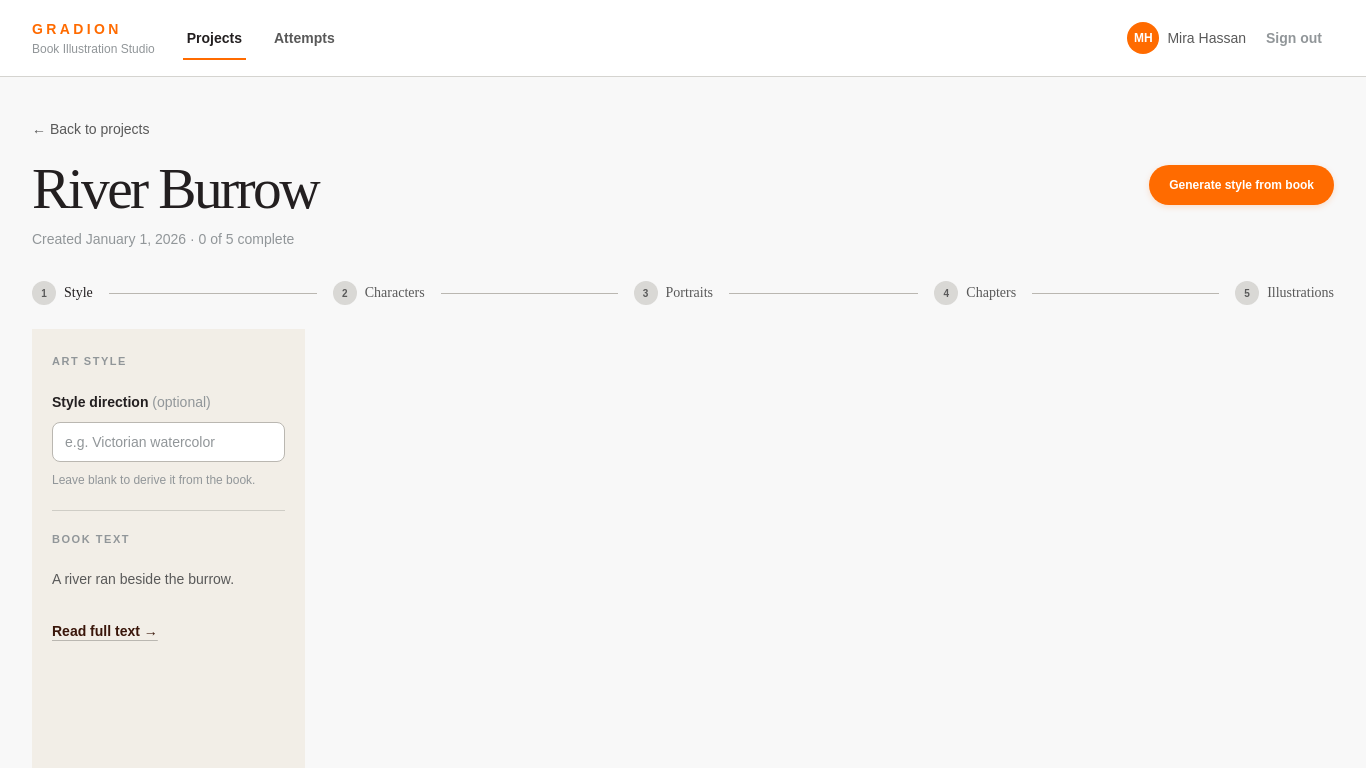
Test: foundation app shell › starts Style explicitly and renders the saved result
Step 1. Click the button "Generate style from book" → (1242, 185), box [1149,165,1334,205]
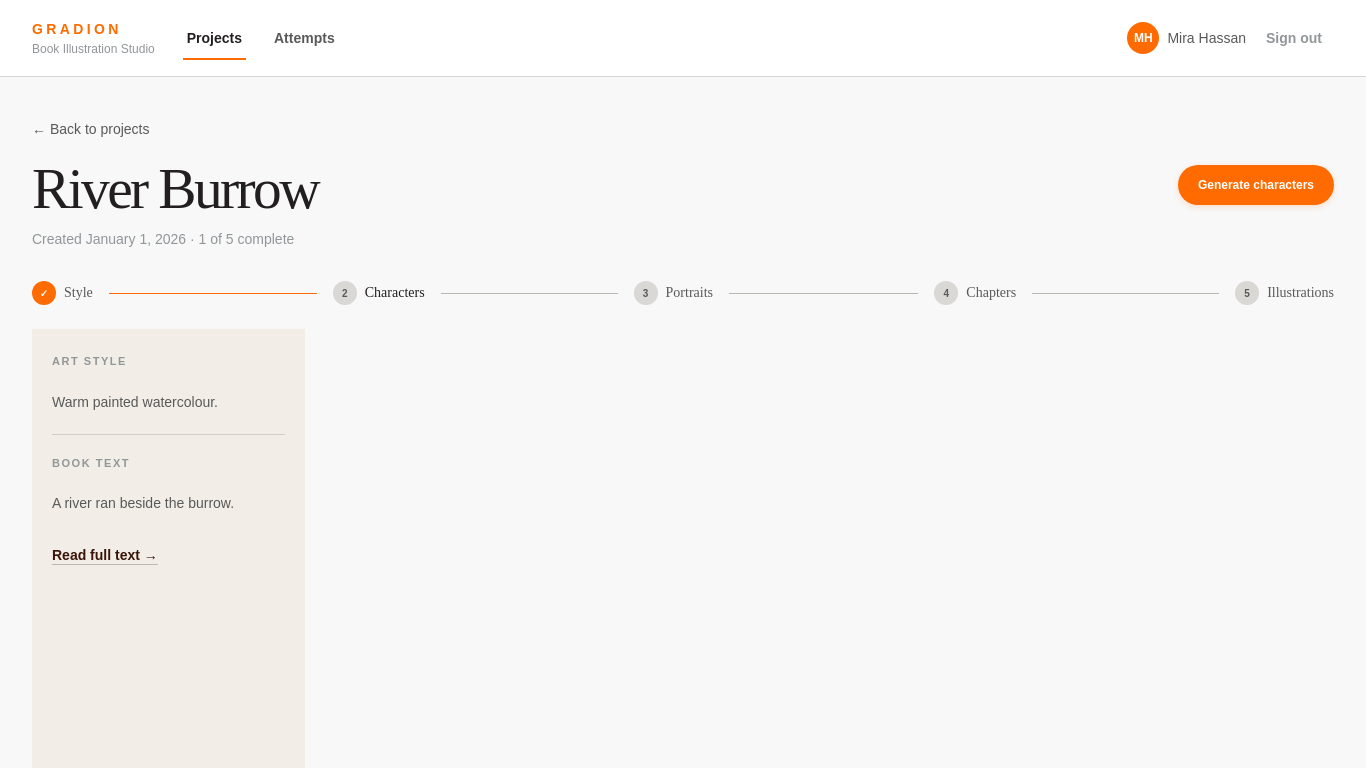
expect the text "Warm painted watercolour." is shown: met, box [52,394,218,410]
